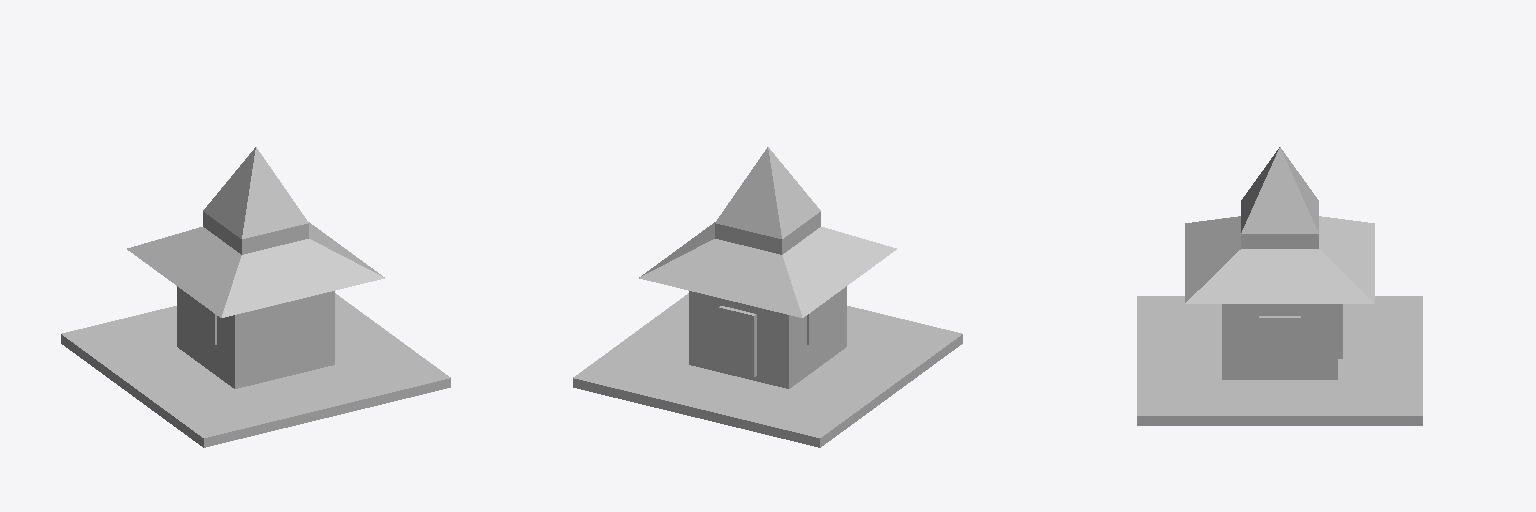
Rendered from temple.obj.
3 renders of one model, left to right at view 1: azimuth 30°, elevation 25°; view 2: azimuth 150°, elevation 25°; view 3: azimuth 270°, elevation 25°, orthographic.
Parts seen in each view (by area): view 1: Cube; view 2: Cube; view 3: Cube.
Boxes of the visible parts, x1,y1,x2,y2 form: Cube: [61, 147, 450, 447]; Cube: [573, 147, 962, 447]; Cube: [1137, 147, 1422, 425].
Bounding box in the file's own units: 7.35 × 6.21 × 7.35.